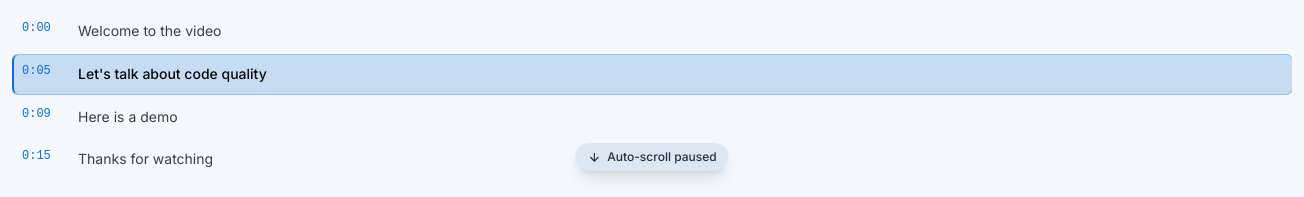
Scenario: TranscriptView — auto-scroll paused indicator › hides 'Auto-scroll paused' when the resume button is clicked
The image size is (1304, 197).
Click the button "Auto-scroll paused" at [652, 157], box [575,143,729,171]
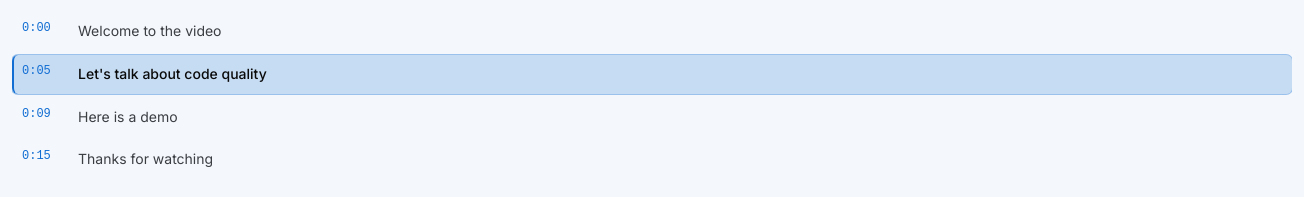
Result: the button "Auto-scroll paused" is gone
